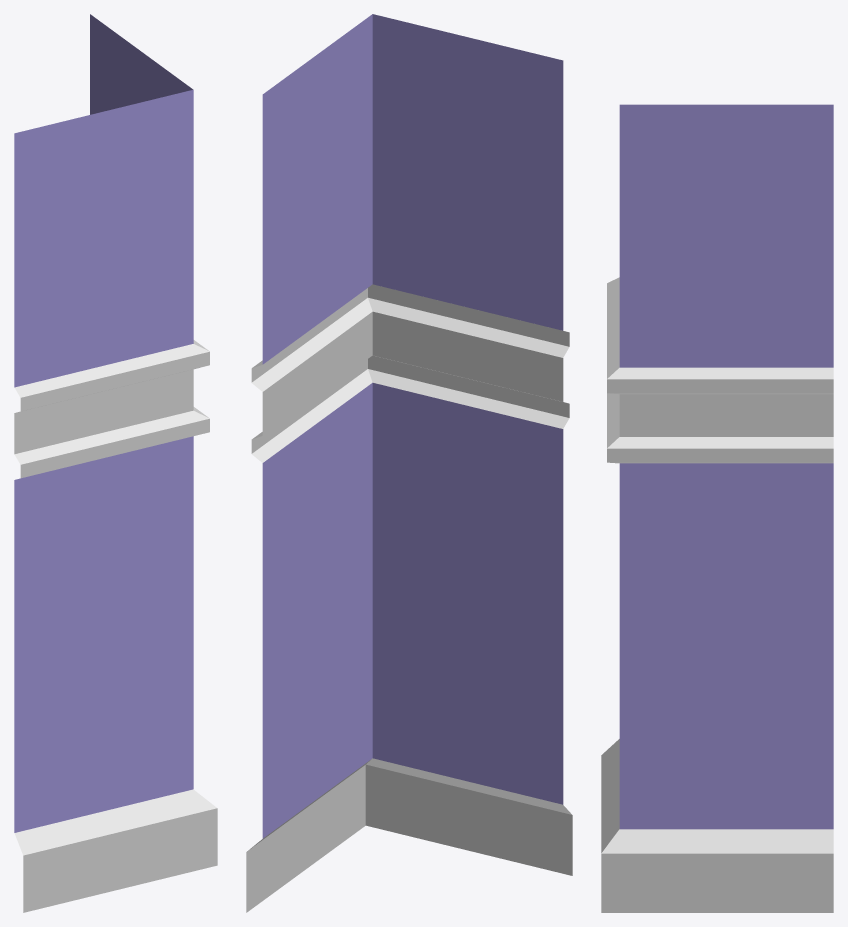
File: Wall Corner.fbx
3 renders of one model, left to right at view 1: azimuth 30°, elevation 25°; view 2: azimuth 150°, elevation 25°; view 3: azimuth 270°, elevation 25°, orthographic. The views are drawn at different scales.
Visible parts, largest first — view 1: Wall Corner; view 2: Wall Corner; view 3: Wall Corner.
Part boxes in pixels (left/top/right/bottom): Wall Corner: left=14, top=14, right=217, bottom=912; Wall Corner: left=246, top=14, right=572, bottom=912; Wall Corner: left=601, top=104, right=833, bottom=912.
Size of the model in its own units: 217 by 825 by 217.
